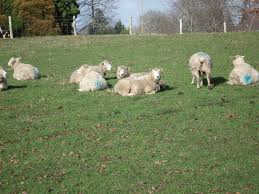sheep: (183, 49, 225, 93), (67, 53, 115, 85), (118, 70, 166, 100), (225, 46, 257, 89), (4, 54, 45, 83), (72, 60, 107, 92), (112, 65, 141, 96)
